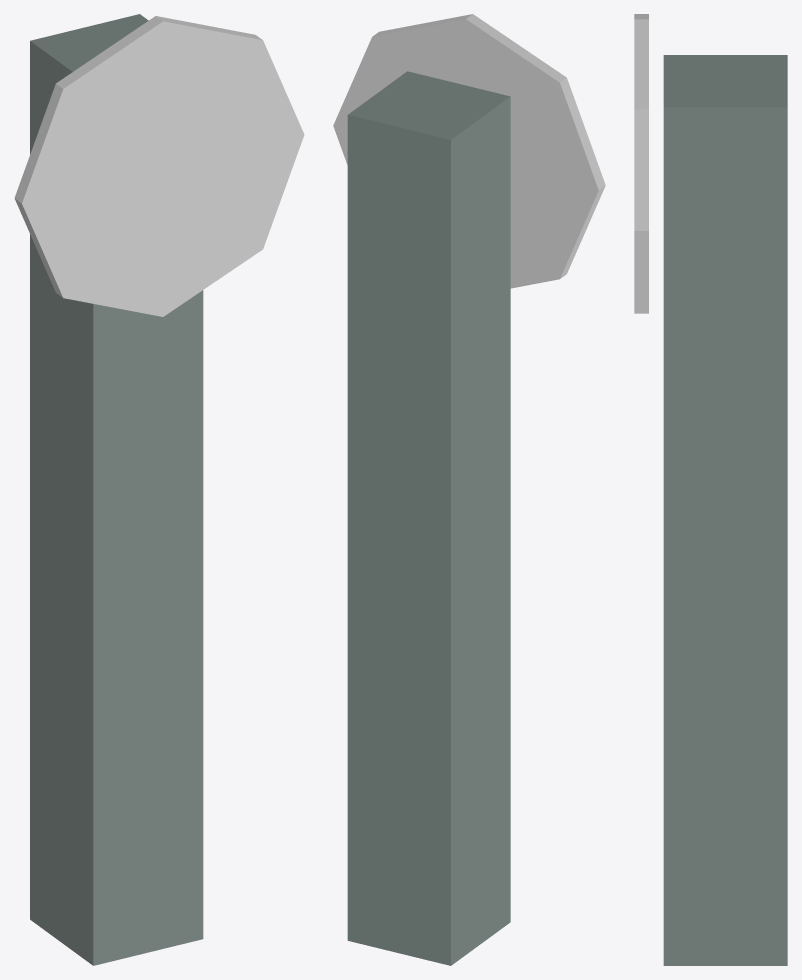
File: SM_Senal_v1_Redonda_LOD1.fbx
The picture shows the model from 3 angles, left to right: view 1: azimuth 30°, elevation 25°; view 2: azimuth 150°, elevation 25°; view 3: azimuth 270°, elevation 25°; orthographic projection. The views are drawn at different scales.
Visible parts, largest first — view 1: SM_urbano_extra_v16_LOD1; view 2: SM_urbano_extra_v16_LOD1; view 3: SM_urbano_extra_v16_LOD1.
Boxes of the visible parts, bbox=[...] form: SM_urbano_extra_v16_LOD1: bbox=[14, 14, 304, 965]; SM_urbano_extra_v16_LOD1: bbox=[333, 14, 605, 965]; SM_urbano_extra_v16_LOD1: bbox=[634, 14, 787, 965].
Bounding box in the file's own units: 0.875 × 2.79 × 0.42.
